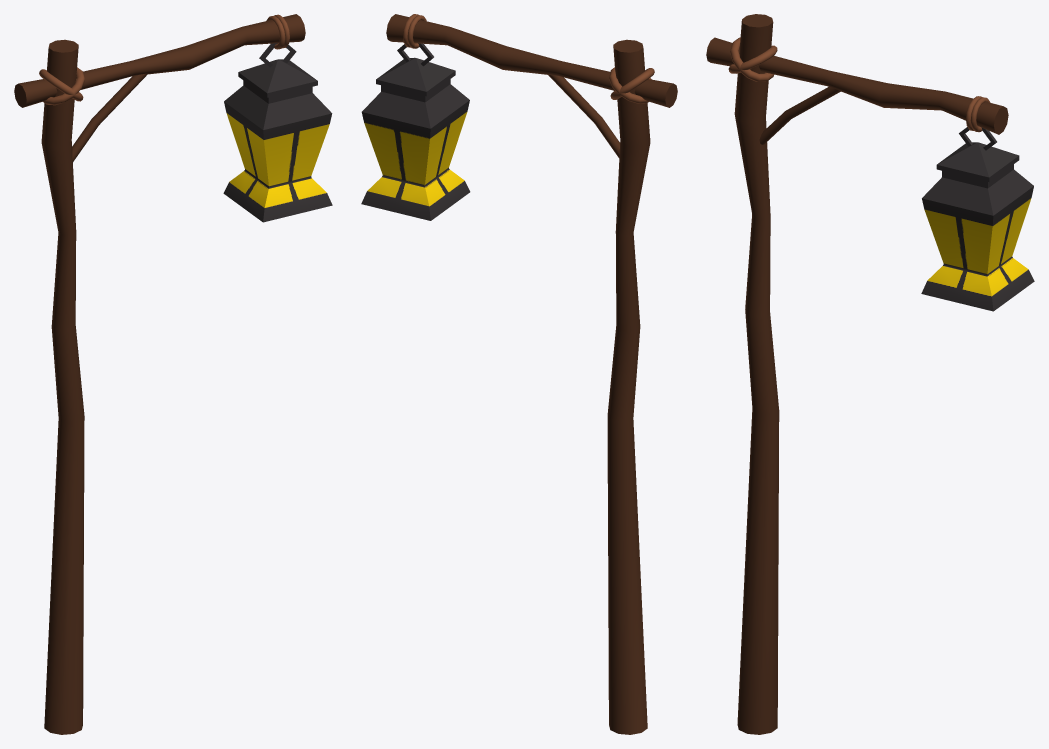
File: ENV0510001.FBX
3 renders of one model, left to right at view 1: azimuth 30°, elevation 25°; view 2: azimuth 150°, elevation 25°; view 3: azimuth 330°, elevation 25°, orthographic. The views are drawn at different scales.
Parts seen in each view (by area): view 1: smENV0510001; view 2: smENV0510001; view 3: smENV0510001.
Part boxes in pixels (left/top/right/bottom): smENV0510001: left=14, top=14, right=332, bottom=734; smENV0510001: left=361, top=14, right=677, bottom=734; smENV0510001: left=706, top=14, right=1034, bottom=734.
Size of the model in its own units: 48.85 by 109 by 11.52.
Materials: 1 (1 with a texture image).
